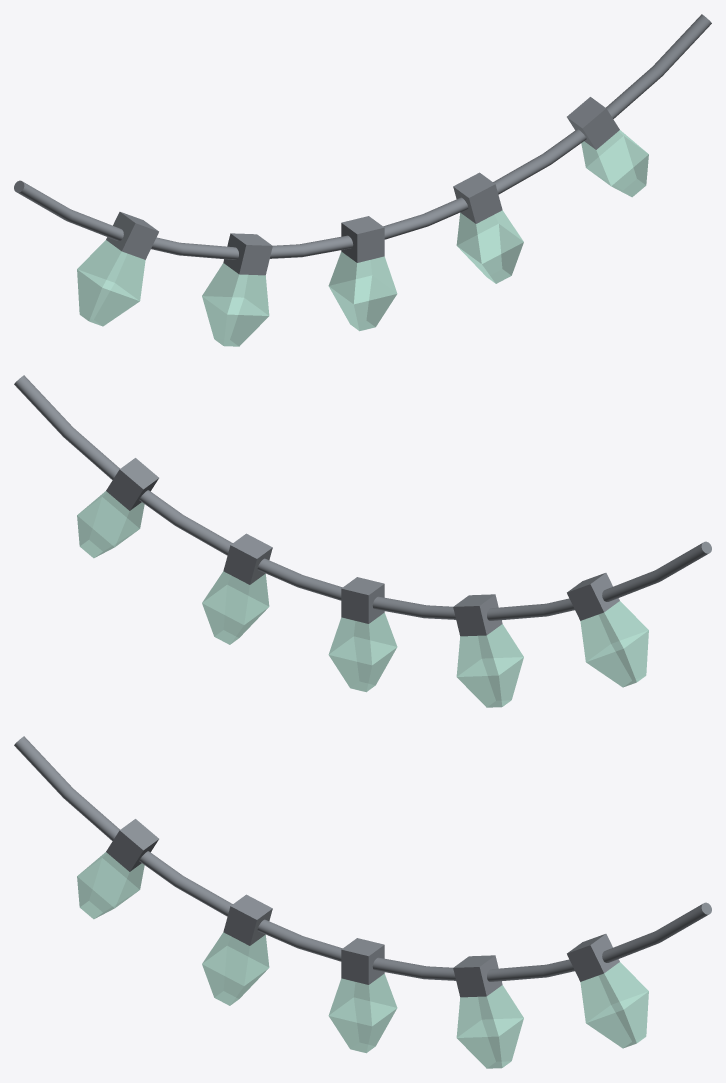
The model's file is lightsGreen.glb.
3 views of the same model, one above another, from view 1: azimuth 30°, elevation 25°; view 2: azimuth 150°, elevation 25°; view 3: azimuth 330°, elevation 25° (orthographic).
Parts seen in each view (by area): view 1: lightsGreen(Clone); view 2: lightsGreen(Clone); view 3: lightsGreen(Clone).
Part boxes in pixels (x1,y1,x2,y2): lightsGreen(Clone): [14, 14, 711, 346]; lightsGreen(Clone): [14, 375, 711, 707]; lightsGreen(Clone): [14, 736, 711, 1068].
Bounding box in the file's own units: 1.01 × 0.3162 × 0.0636.
